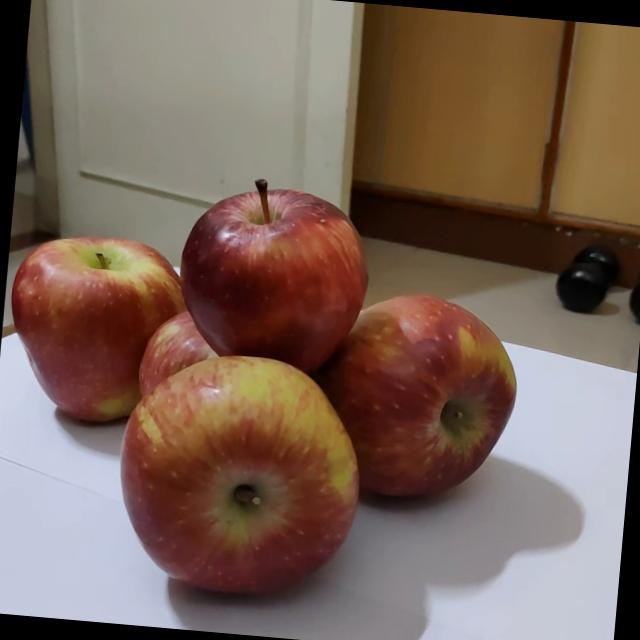apple: (97, 334, 376, 616), (312, 284, 528, 514), (165, 163, 380, 391), (0, 211, 199, 430)
